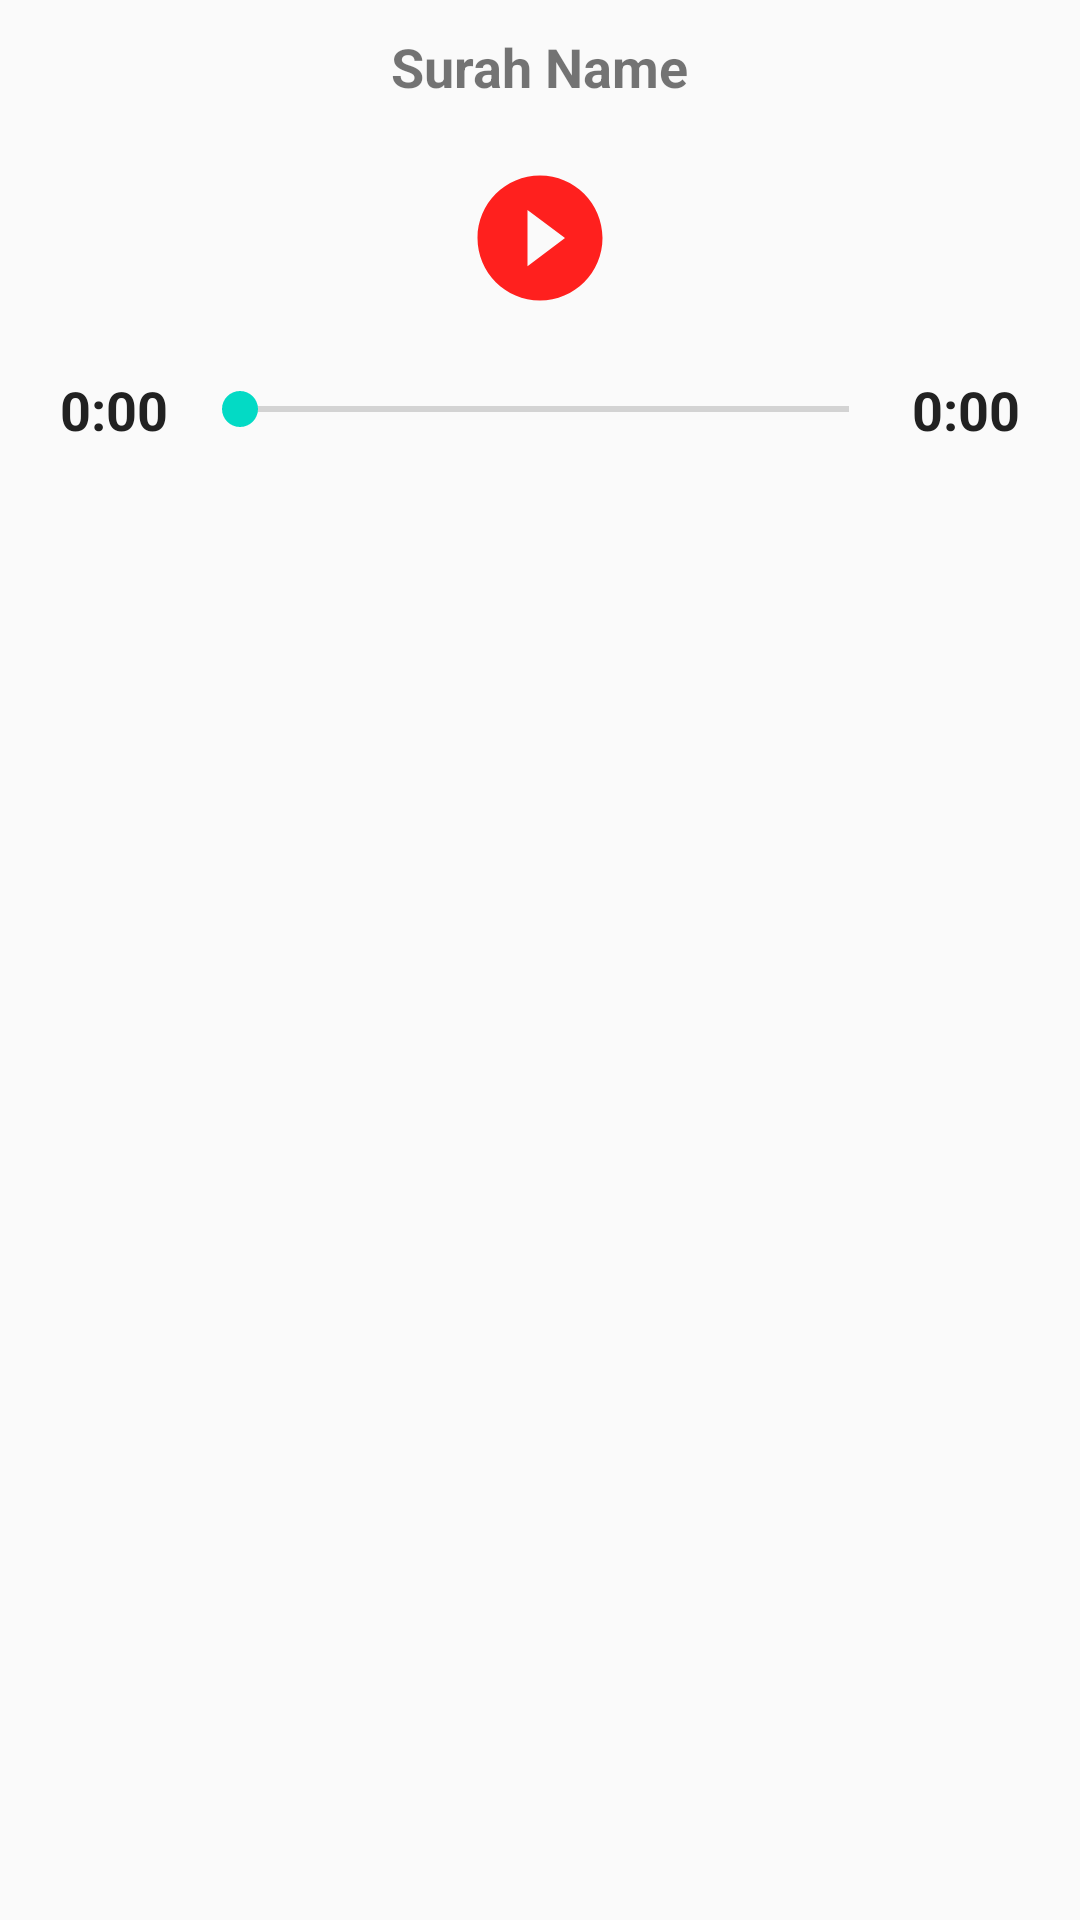

Named icons in this screenshot (1080×1920) and their centers, (x=x, y=y):
play: (x=540, y=238)
